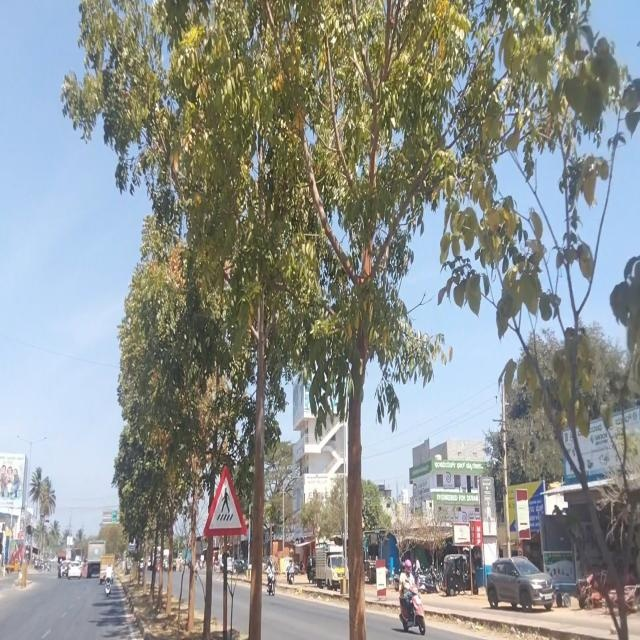bien_nguy_hiem: (204, 464, 248, 537)
